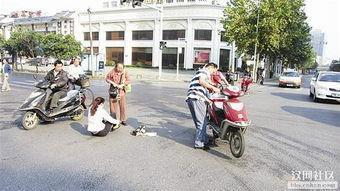Fall-Detected: (82, 93, 121, 137)
